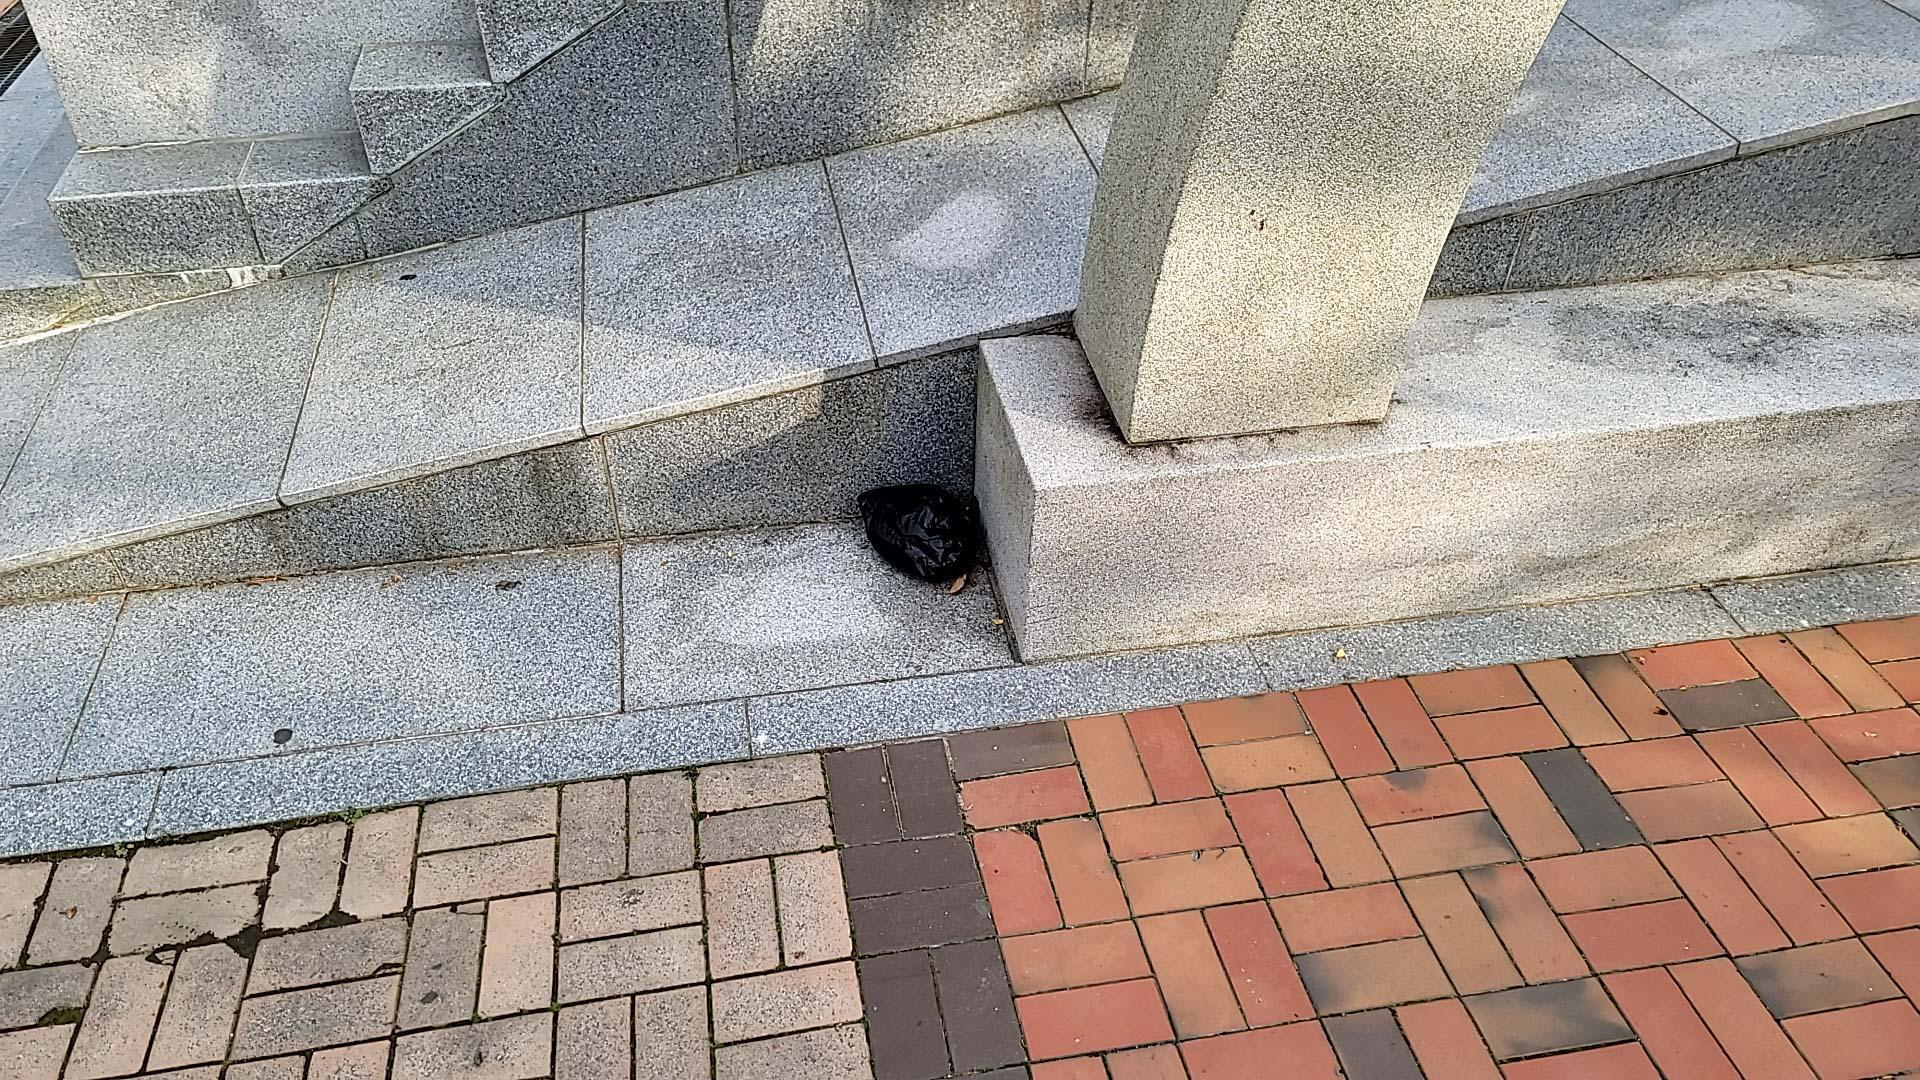black_bag: (837, 475, 1004, 597)
